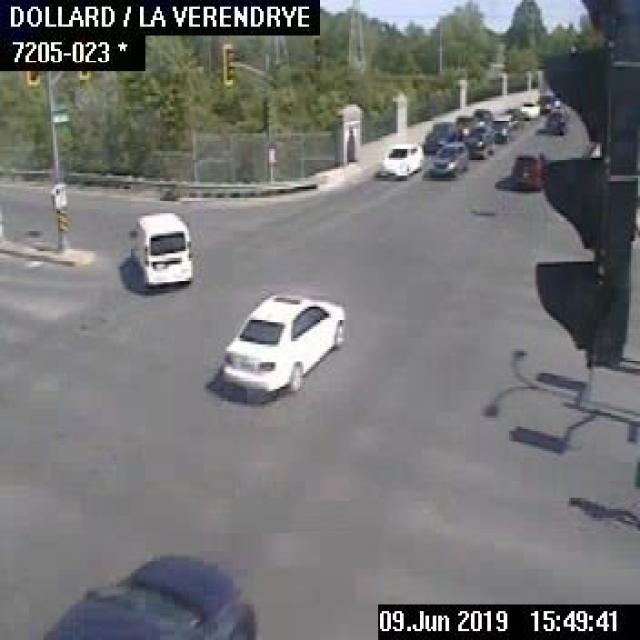vehicle: (38, 549, 256, 638), (216, 289, 348, 395), (125, 207, 191, 289), (425, 138, 468, 178), (506, 144, 544, 189), (376, 141, 422, 178), (489, 110, 523, 144), (540, 104, 569, 136), (465, 124, 493, 155), (452, 114, 479, 138), (519, 98, 539, 116)
